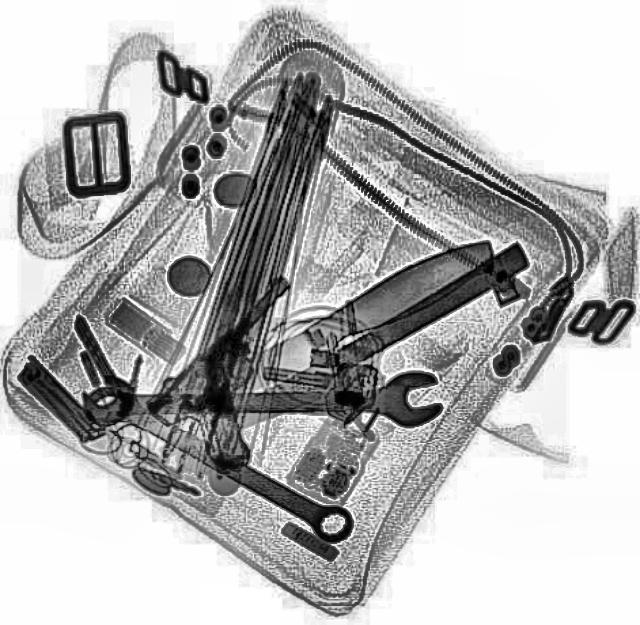Gun: (143, 272, 367, 472)
Knife: (144, 229, 506, 428)
Wrench: (67, 364, 363, 558), (82, 369, 444, 432)
